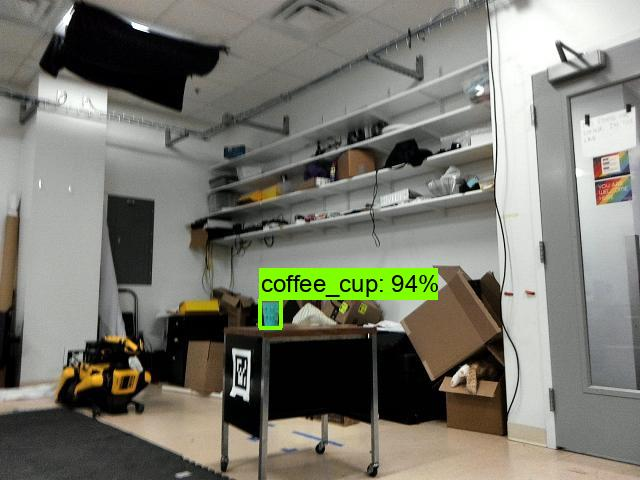coffee_cup: (260, 300, 282, 328)
